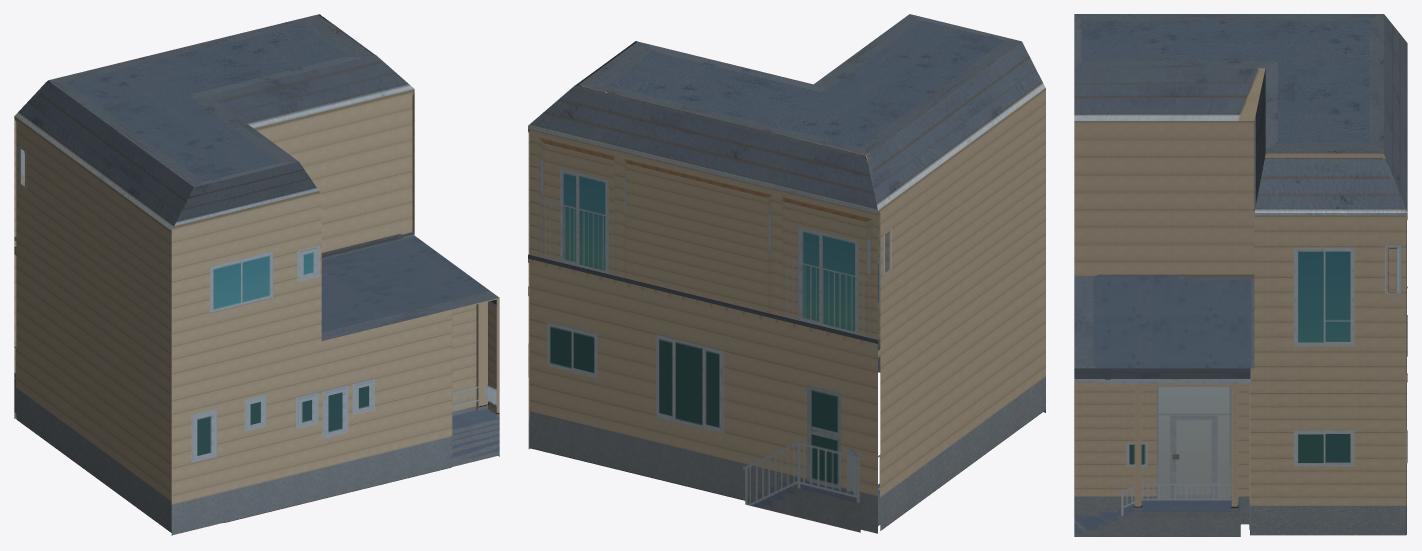
File: House_11_low.fbx
3 views of the same model, side by side, from view 1: azimuth 30°, elevation 25°; view 2: azimuth 150°, elevation 25°; view 3: azimuth 270°, elevation 25° (orthographic). The views are drawn at different scales.
Parts seen in each view (by area): view 1: pCube133; view 2: pCube133; view 3: pCube133.
Boxes of the visible parts, bbox=[...] form: pCube133: bbox=[14, 14, 499, 535]; pCube133: bbox=[528, 14, 1045, 533]; pCube133: bbox=[1074, 14, 1407, 536].
Bounding box in the file's own units: 670 × 671 × 556.
5 materials, 5 textured.
